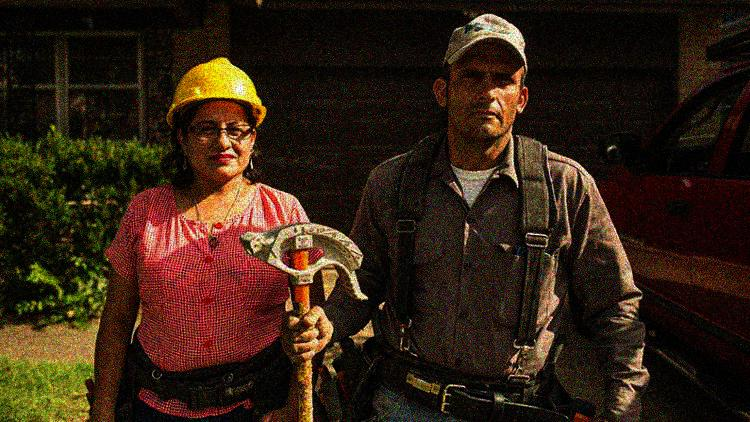helmet: (161, 53, 269, 182), (429, 11, 533, 143)
